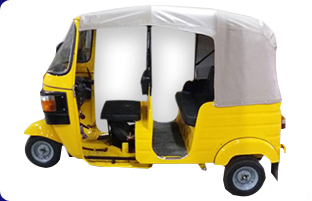auto: (21, 6, 289, 201)
